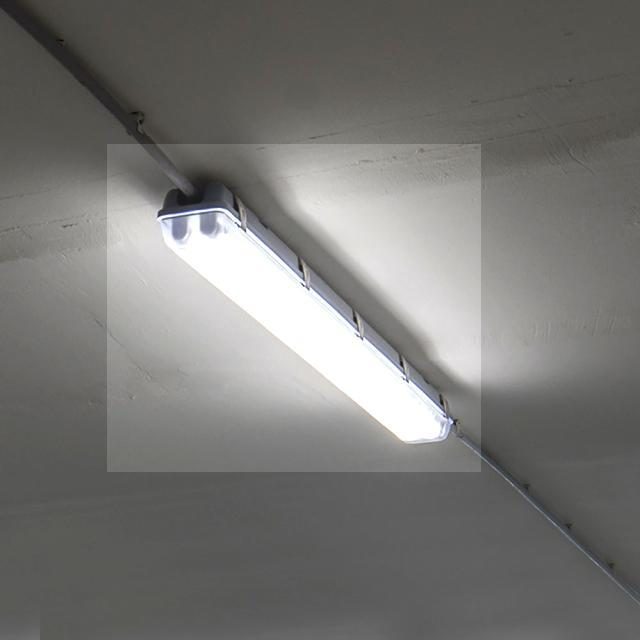Straight-Tube-Fluorescent-Lamp: (144, 178, 462, 462)
